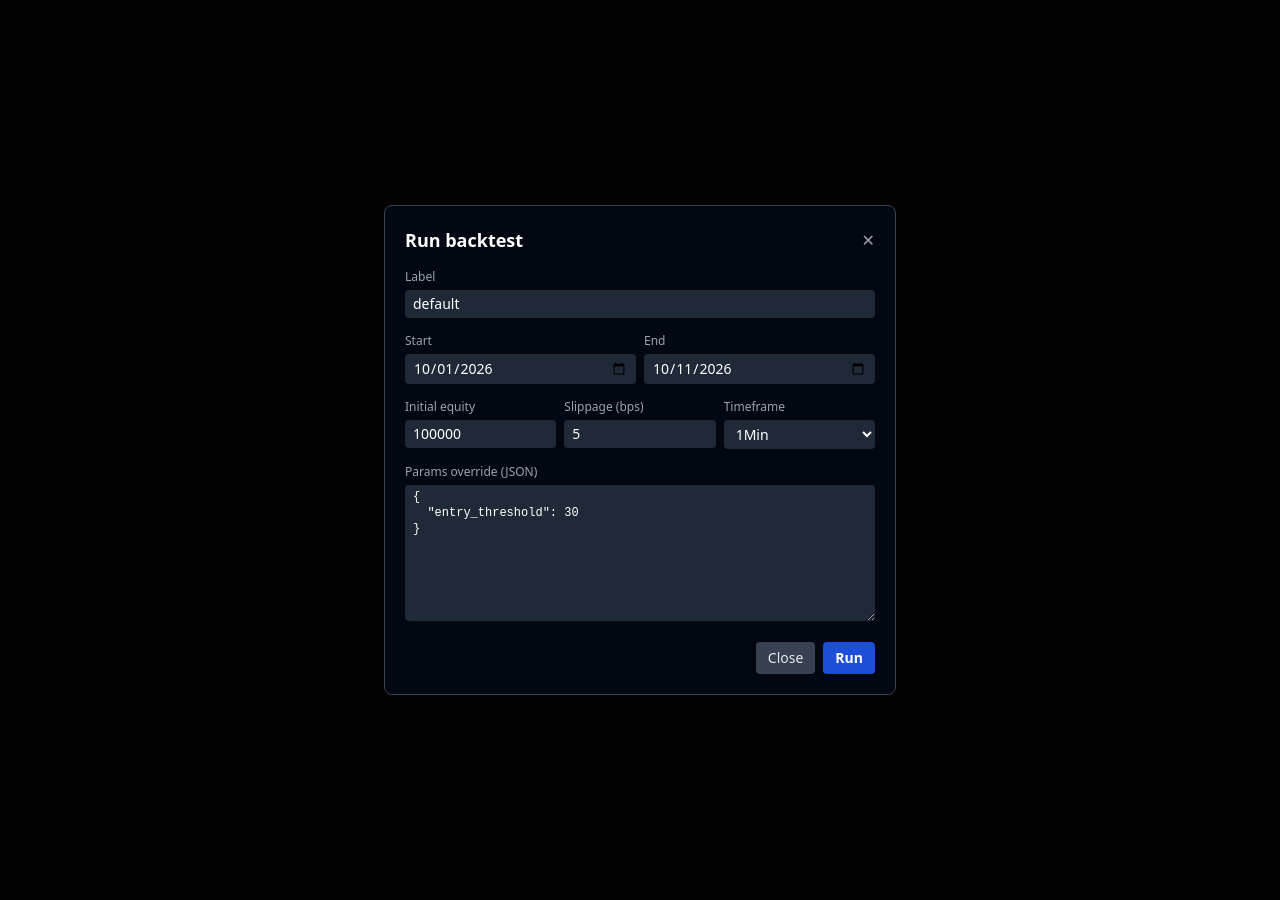
Scenario: BacktestRunModal › renders WS progress events into a moving progress bar
Click the button "Run": x=849, y=658 [823,642,875,674]
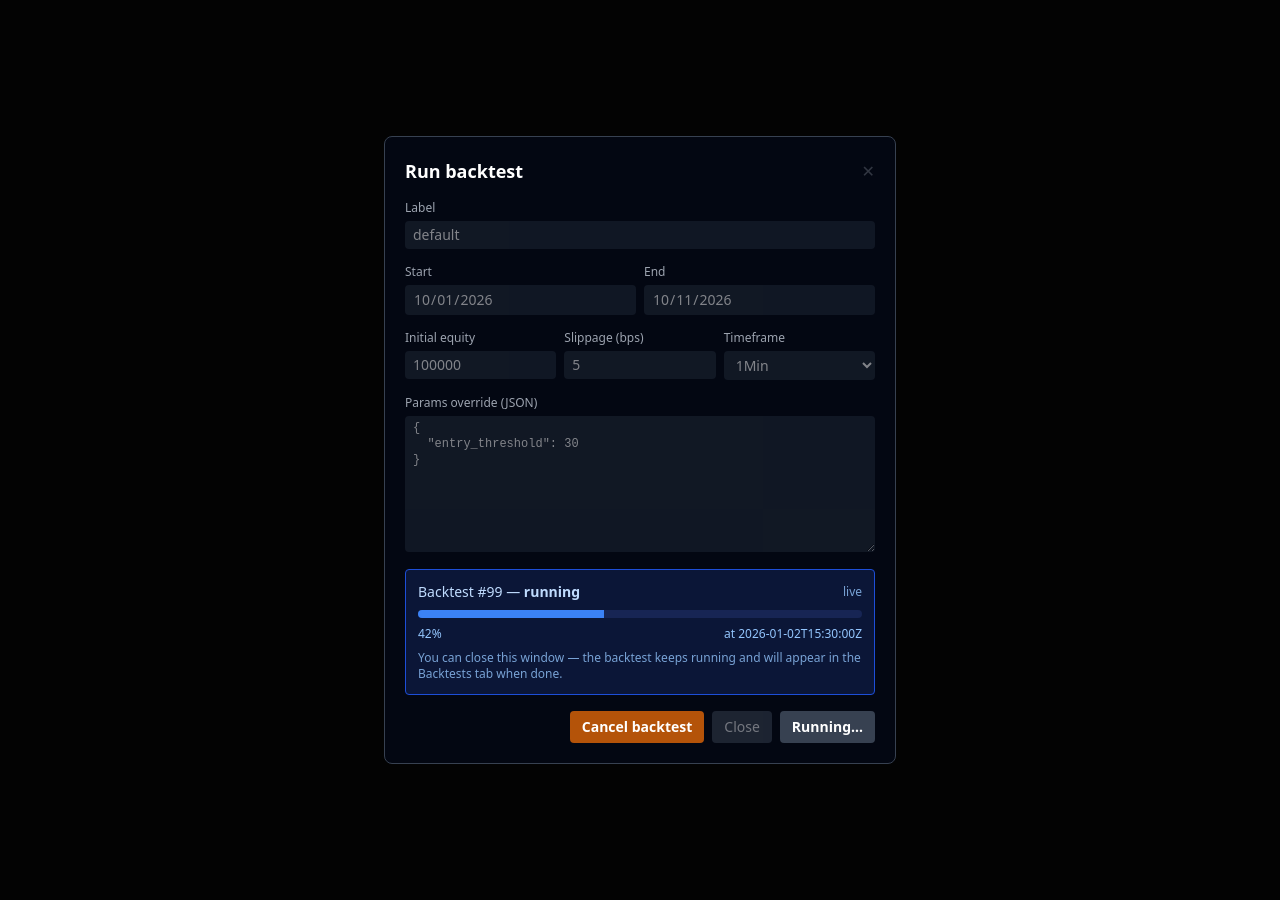
Expected: the element with test id "bt-status" is shown, [405,569,875,695]
Expected: the element with test id "bt-status" shows "running", [524,582,580,601]
Expected: the element with test id "bt-status" shows "live", [843,583,862,600]
